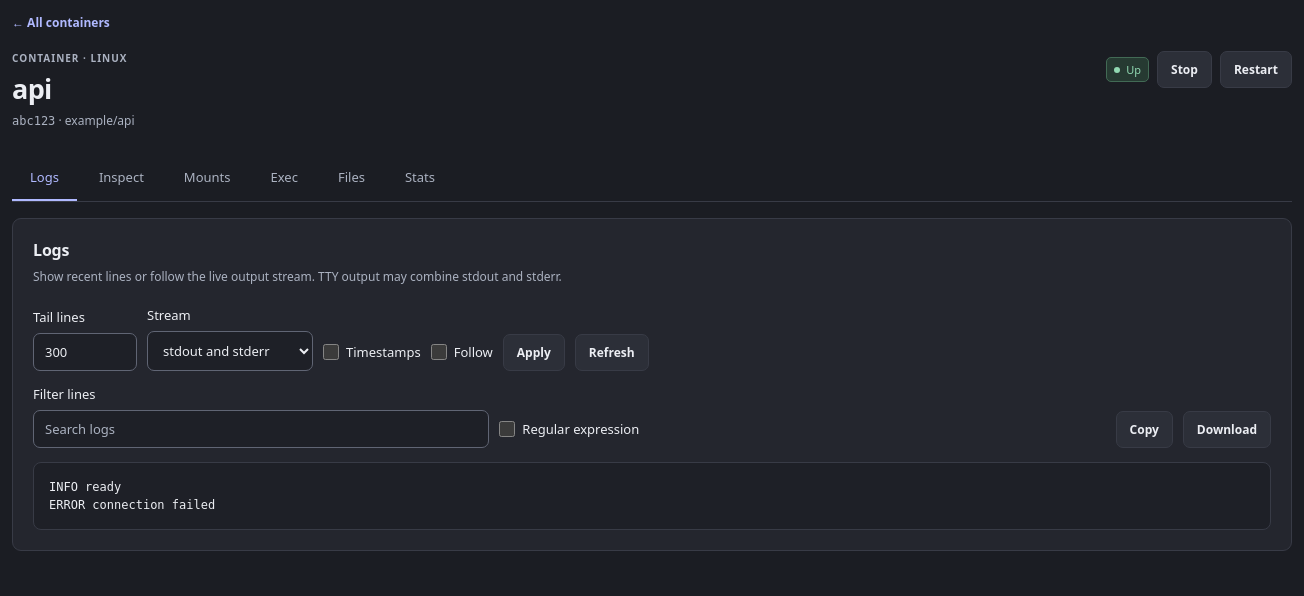
filters log lines, reports invalid regex and follows the real stream through EOF
The width and height of the screenshot is (1304, 596).
Expected: the text "INFO ready ERROR connection failed" is shown, left=33, top=462, right=1271, bottom=530
Type "ERROR" into the field labelled "Filter lines" at (261,429), box left=33, top=410, right=489, bottom=448
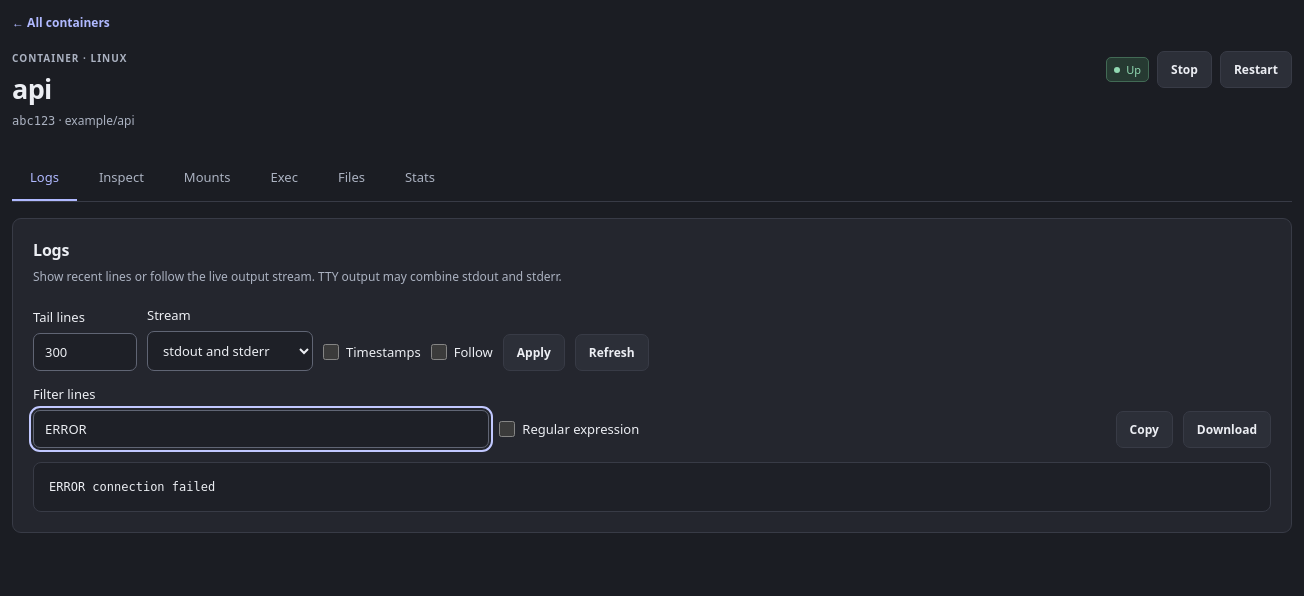
Expected: the text "ERROR connection failed" is shown, left=33, top=462, right=1271, bottom=512
Result: the text "INFO ready" is gone
Click the checkbox labelled "Regular expression" at (507,429), box left=499, top=421, right=515, bottom=437
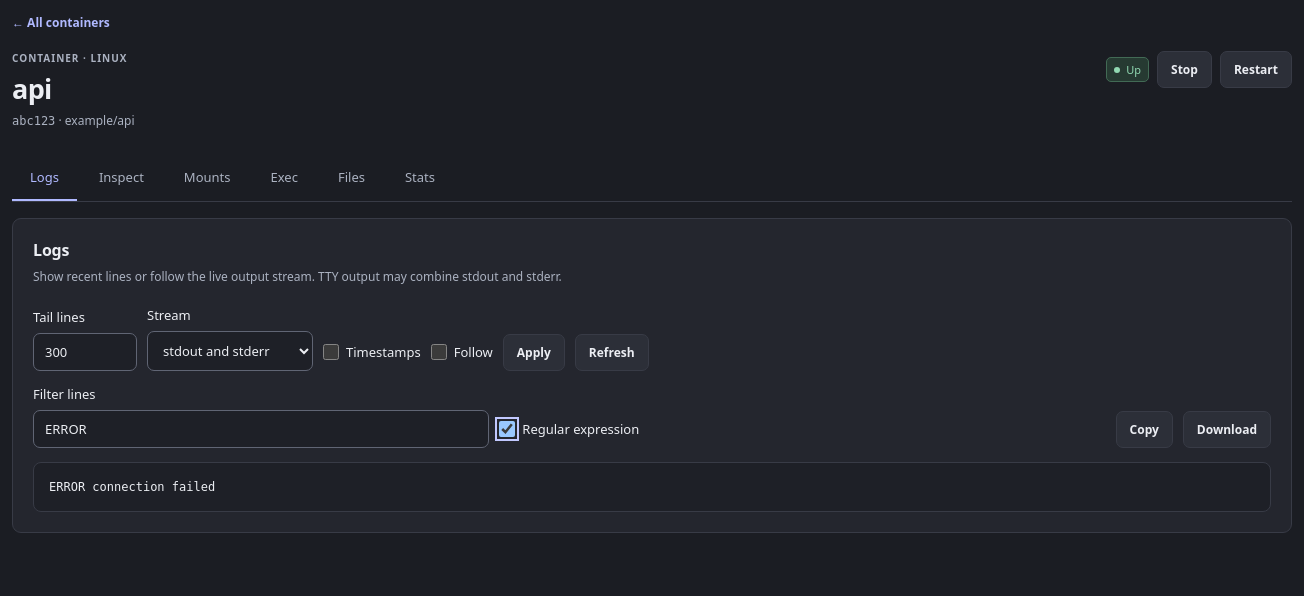
Replace the text in the field labelled "Filter lines" with "(" at (261,429), box left=33, top=410, right=489, bottom=448
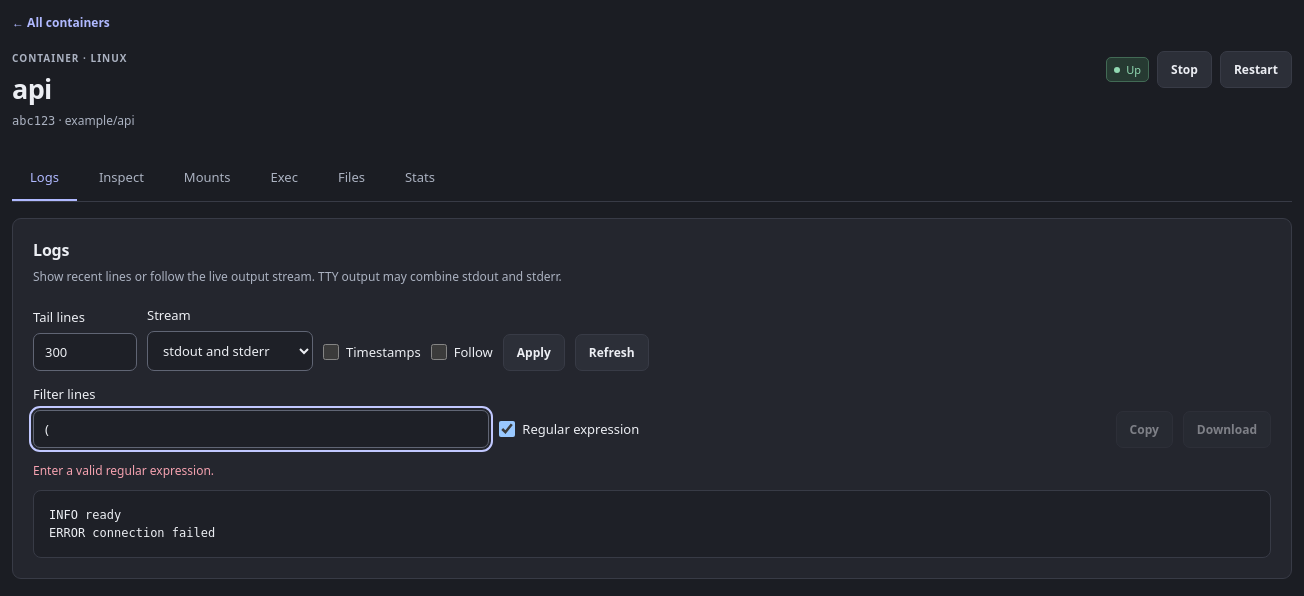
Result: the message shows "valid regular expression" at left=33, top=462, right=214, bottom=479
Clear the field labelled "Filter lines" at (261,429), box left=33, top=410, right=489, bottom=448
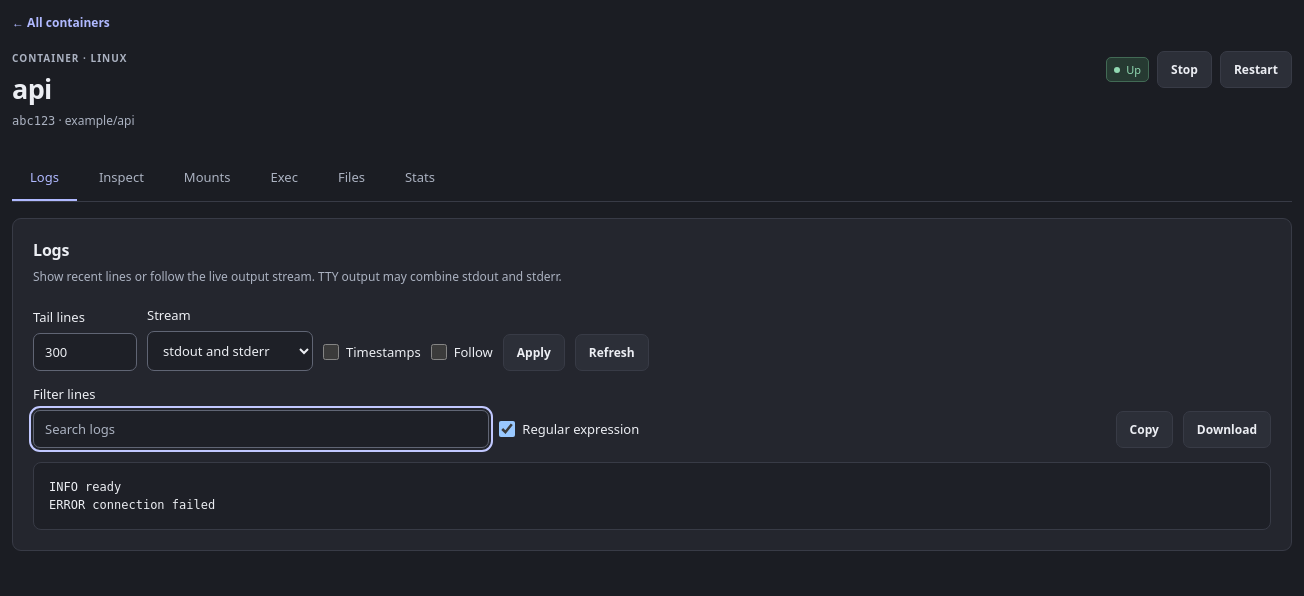
Click the checkbox labelled "Follow" at (439,352), box left=431, top=344, right=447, bottom=360
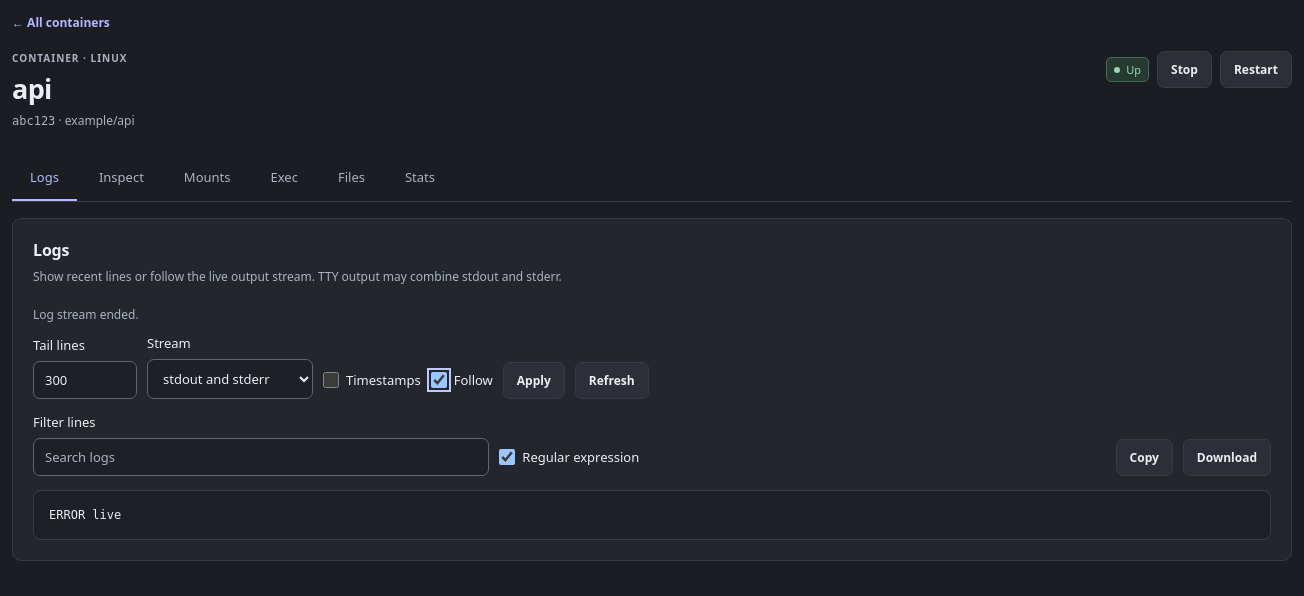
Result: the text "ERROR live" is shown at left=33, top=490, right=1271, bottom=540
